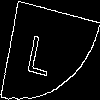L: (24, 25, 56, 77)
